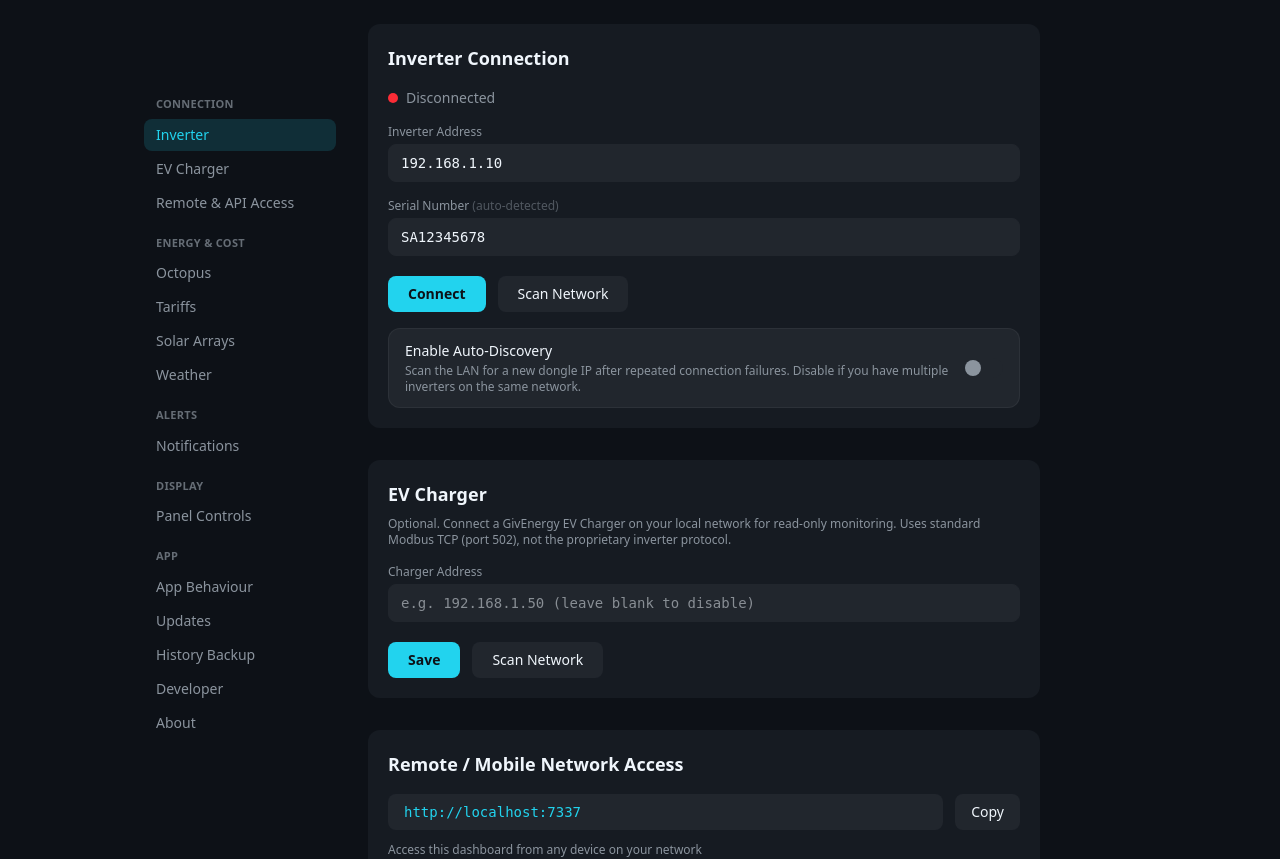
Scenario: <SettingsPage/> — page shell & hydration › discover › lists discovered inverters
The image size is (1280, 859).
Click the button "Scan Network" below "Serial Number".
click(563, 294)  # box [498,276,628,312]
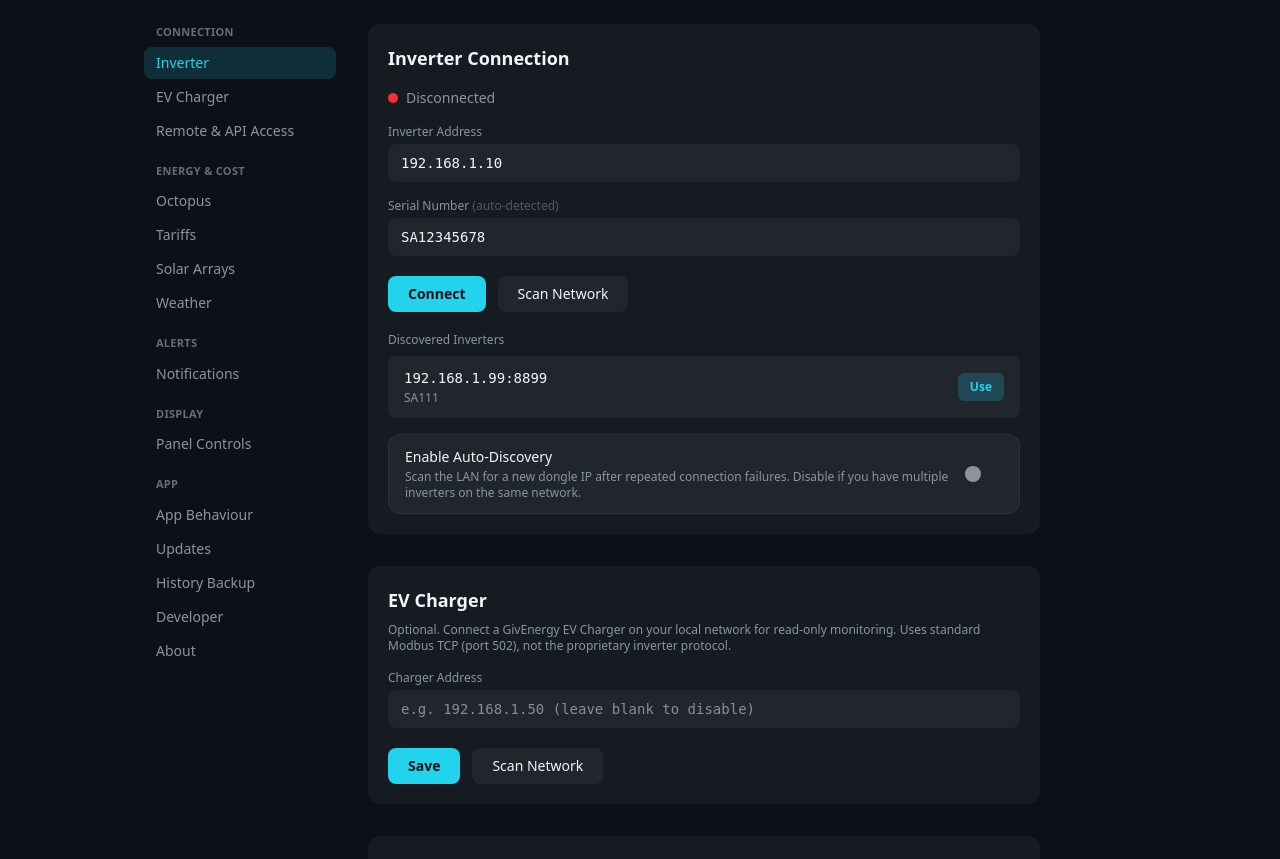
Check: the text "192.168.1.99:8899" is shown, box [404,368,547,388]
